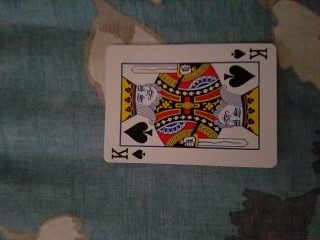KingOfSpades: (103, 42, 279, 169)
